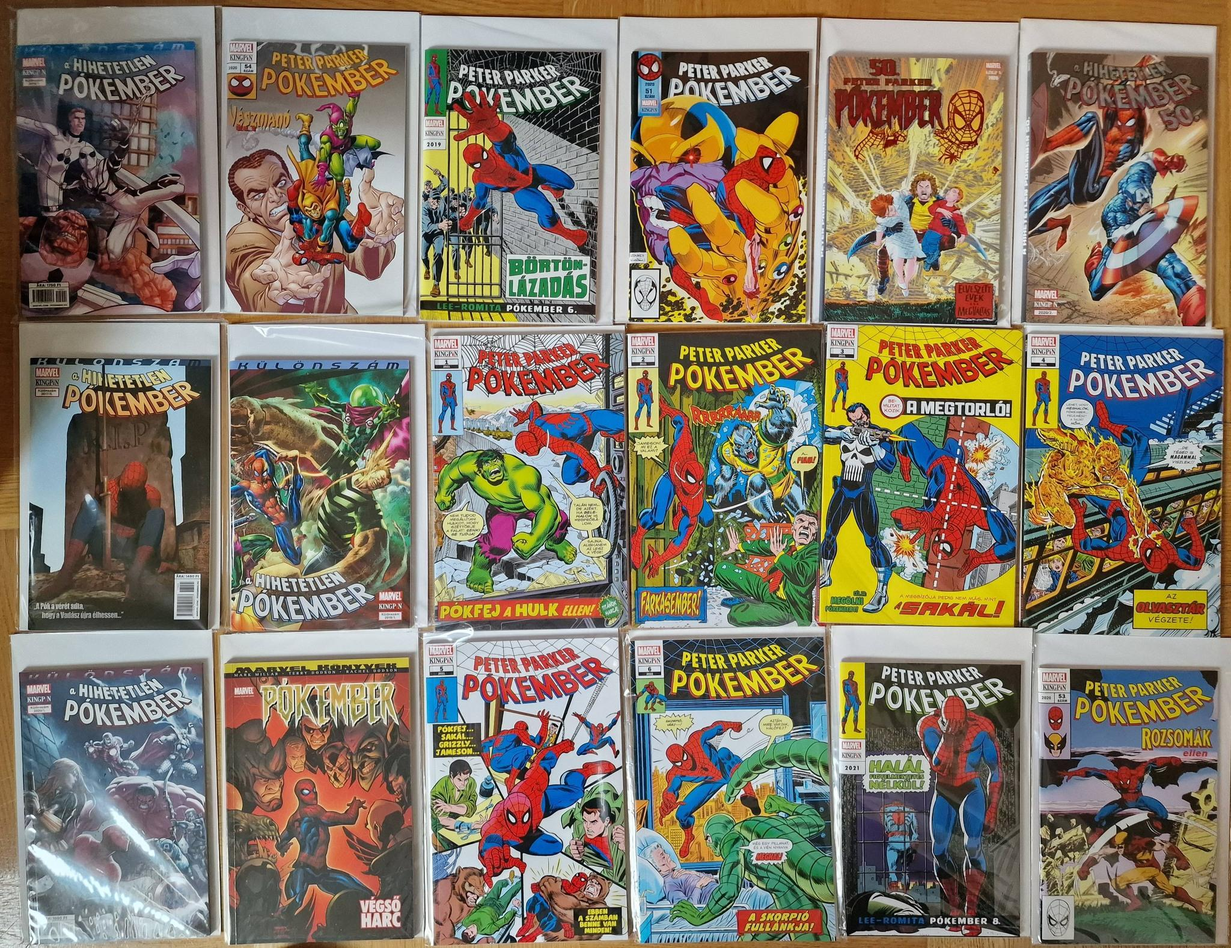comic: (627, 633, 837, 946), (422, 634, 630, 945), (1019, 329, 1227, 636), (817, 322, 1025, 628), (425, 330, 630, 631), (626, 328, 824, 627), (15, 659, 216, 945), (219, 657, 417, 943), (218, 36, 413, 315), (21, 355, 217, 632), (618, 47, 813, 323), (1019, 49, 1213, 326), (837, 660, 1028, 937), (14, 40, 205, 317), (420, 47, 611, 323), (1035, 666, 1221, 945), (823, 52, 1010, 325), (229, 358, 412, 631)
